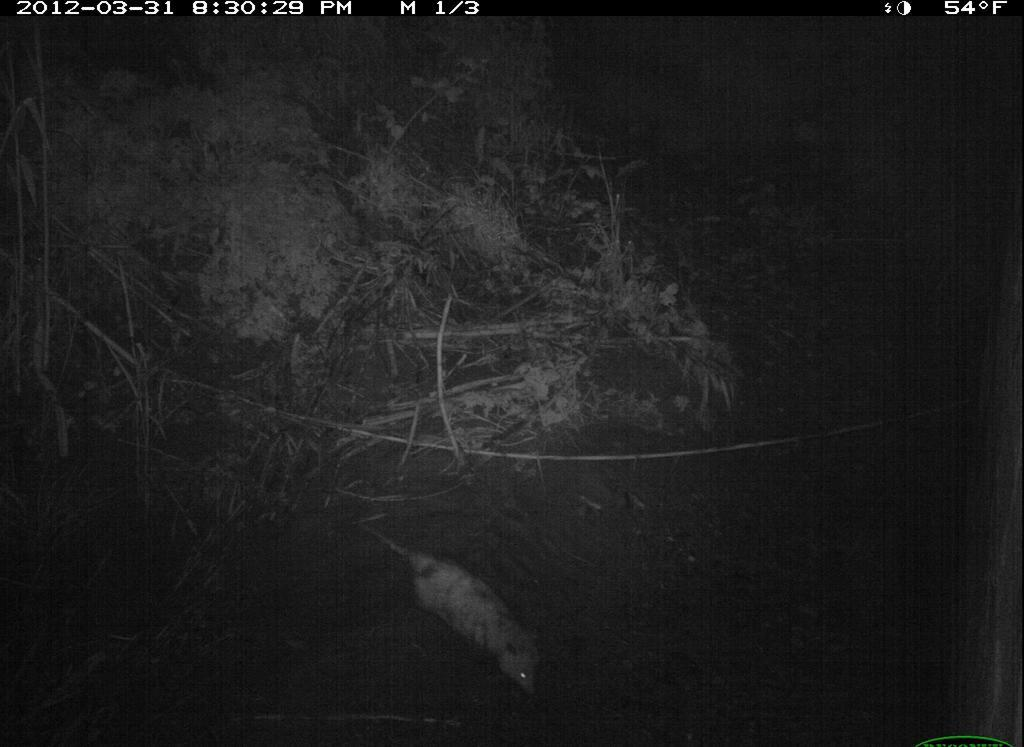opossum: (354, 516, 548, 706)
